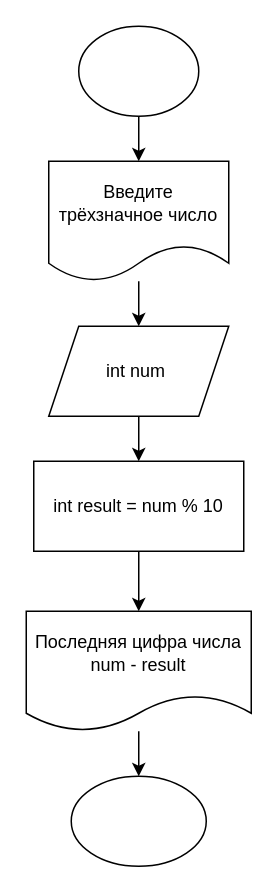
The diagram is 278 pixels wide and 893 high, and some of its shapes have lost their labels. Each missing label, with the box of its shape:
End: (70, 775, 206, 866)
Start: (77, 25, 199, 116)
